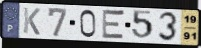0: (79, 9, 97, 39)
3: (156, 11, 181, 43)
5: (131, 10, 155, 43)
7: (47, 7, 68, 38)
E: (101, 8, 126, 42)
K: (22, 7, 42, 37)
